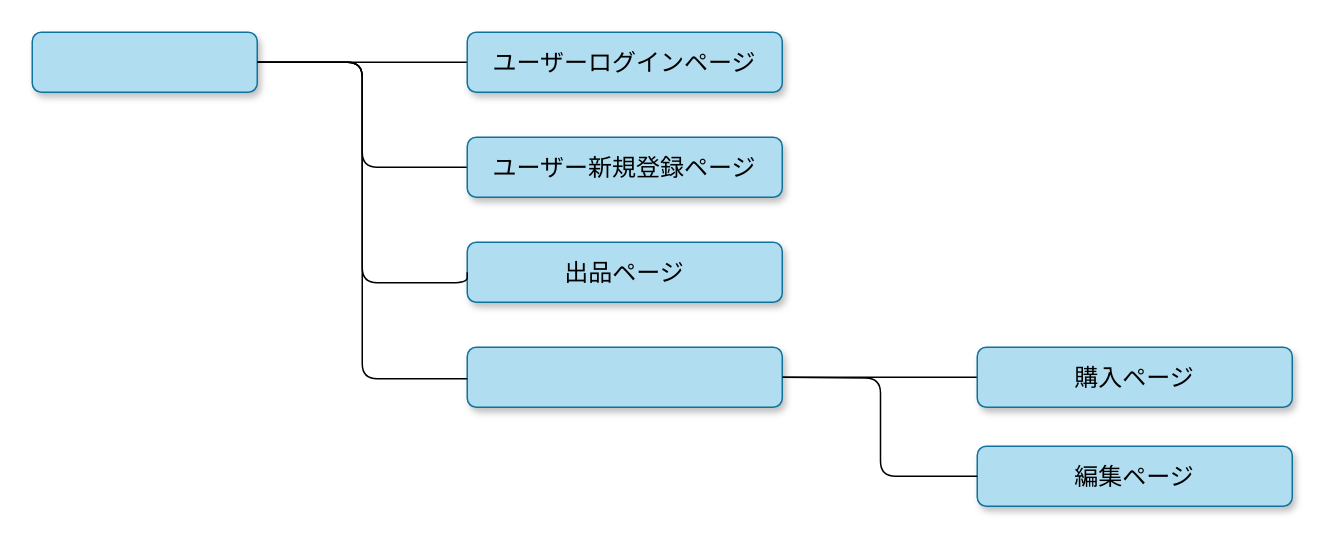
Some shapes in this 1328 by 543 pixel diagram are drawn without their labels. The centre of each missing label's shape, as x and y in pixels:
一覧ページ: the point at 145,64
詳細ページ: the point at 625,379
